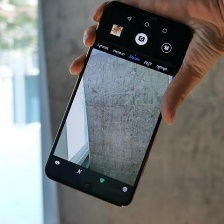phone: (41, 0, 201, 213)
